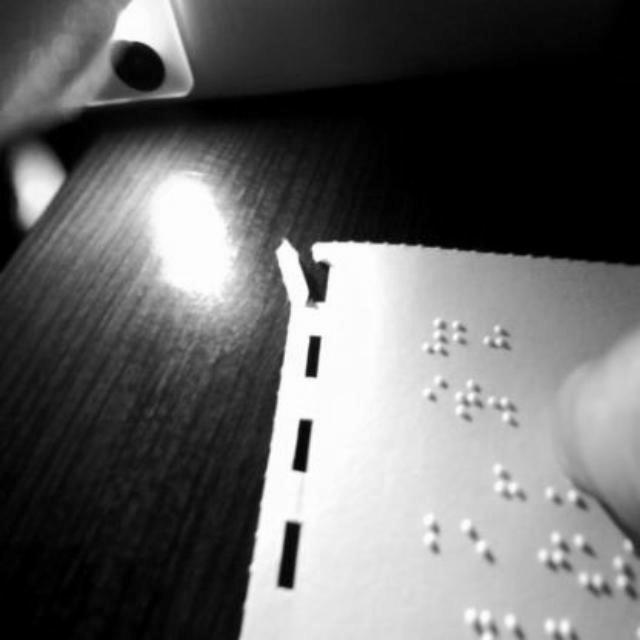braiile: (459, 512, 495, 582), (423, 509, 455, 575), (451, 374, 483, 438), (420, 368, 448, 426), (452, 312, 478, 366), (482, 319, 508, 369)
